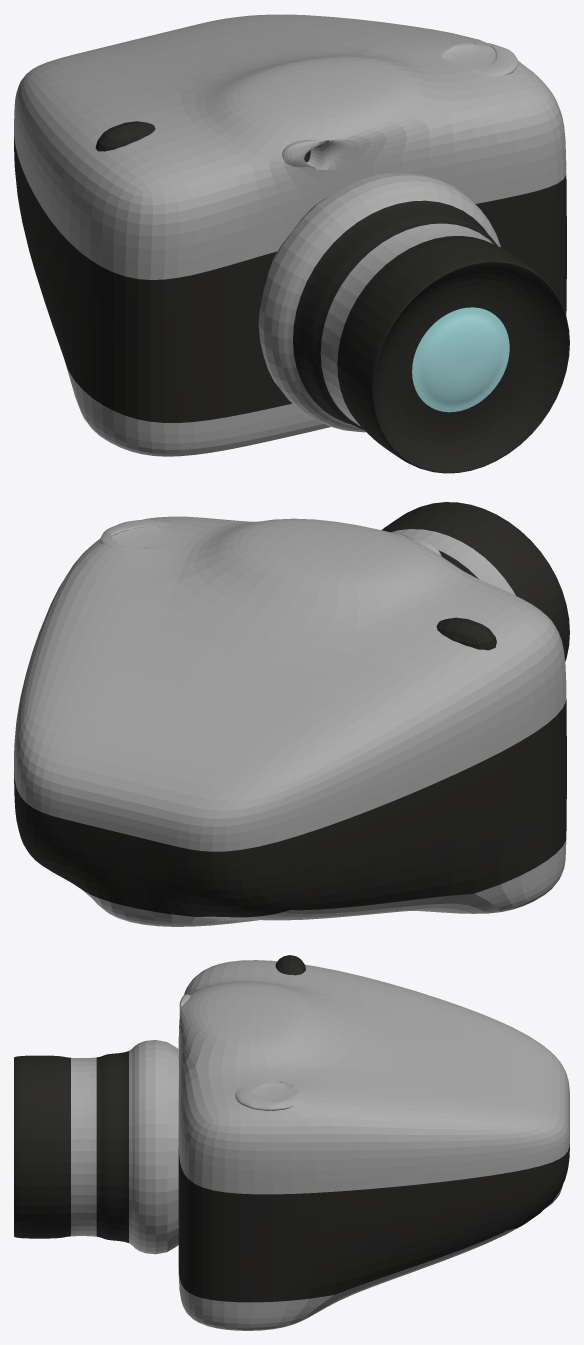
The model's file is Camera.fbx.
The picture shows the model from 3 angles, top to bottom: view 1: azimuth 30°, elevation 25°; view 2: azimuth 150°, elevation 25°; view 3: azimuth 270°, elevation 25°; orthographic projection. The views are drawn at different scales.
Parts seen in each view (by area): view 1: Camera; view 2: Camera; view 3: Camera.
Boxes of the visible parts, x1,y1,x2,y2 form: Camera: (14,14,569,473); Camera: (14,502,569,926); Camera: (14,955,569,1330).
Bounding box in the file's own units: 3.34 × 4.47 × 2.15.
